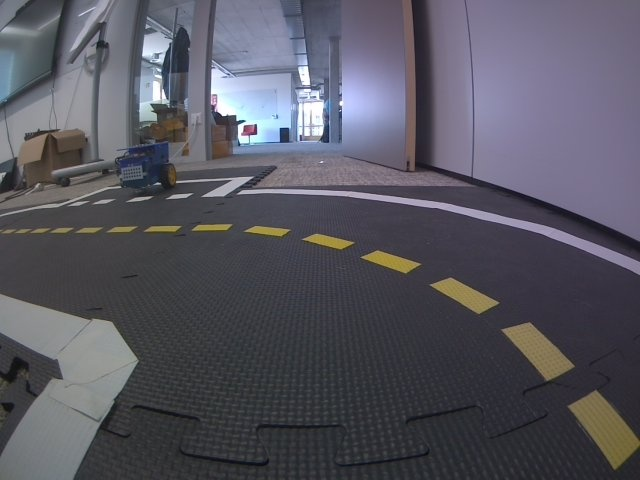Bot: (114, 139, 177, 191)
occupiedSlot: (58, 175, 254, 209)
